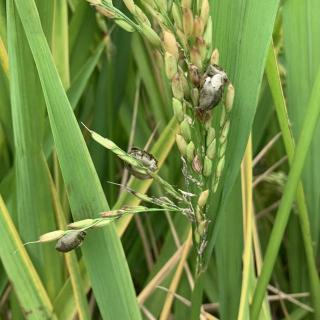Gosong-Palsu: (192, 61, 230, 112), (122, 144, 160, 182), (52, 229, 89, 253)
